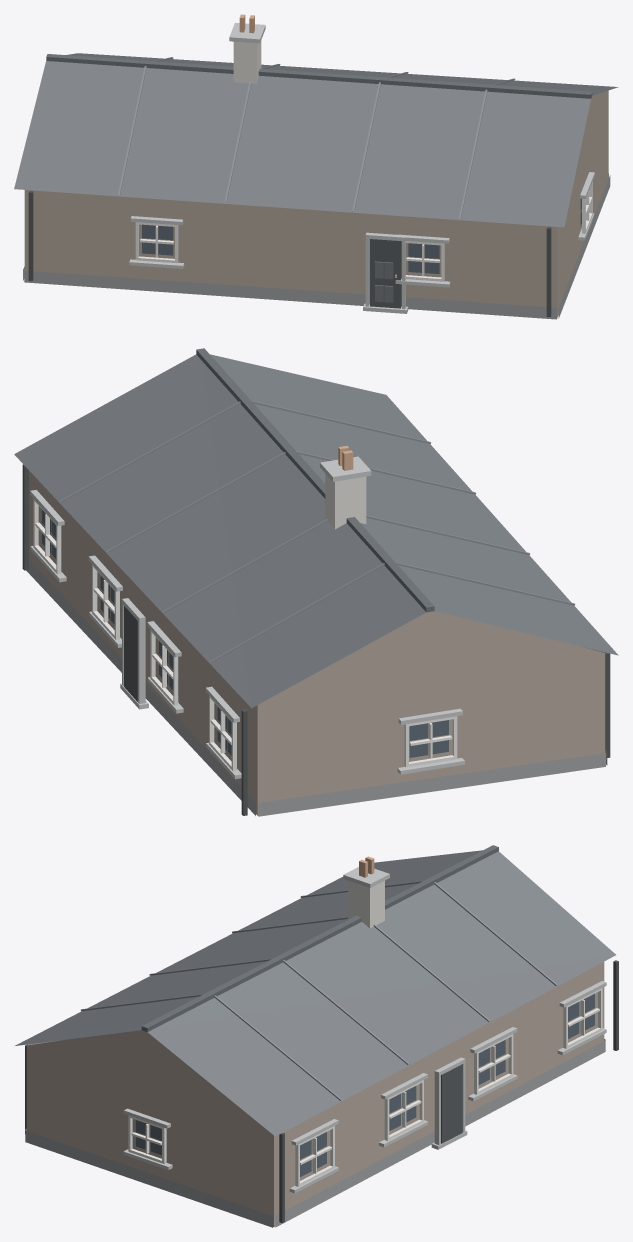
The picture shows the model from 3 angles, top to bottom: view 1: azimuth 30°, elevation 25°; view 2: azimuth 150°, elevation 25°; view 3: azimuth 270°, elevation 25°; orthographic projection. The views are drawn at different scales.
Parts seen in each view (by area): view 1: slate, harl_brown, plinth, slate_dk, stone_band, frame, slate_lt, door_dark, chim_render, pipe, door_dark_p; view 2: slate, harl_brown, plinth, stone_band, frame, slate_lt, slate_dk, pipe, chim_render, door_dark; view 3: slate, harl_brown, plinth, stone_band, frame, slate_dk, slate_lt, door_dark, chim_render, pipe.
Boxes of the visible parts, left/top/right/bottom form: slate: left=14, top=53, right=618, bottom=227; harl_brown: left=24, top=90, right=608, bottom=318; plinth: left=23, top=173, right=610, bottom=319; slate_dk: left=46, top=54, right=592, bottom=98; stone_band: left=129, top=22, right=594, bottom=313; frame: left=135, top=181, right=592, bottom=281; slate_lt: left=118, top=57, right=515, bottom=219; door_dark: left=370, top=239, right=401, bottom=308; chim_render: left=233, top=40, right=261, bottom=83; pipe: left=28, top=191, right=551, bottom=316; door_dark_p: left=375, top=261, right=393, bottom=302; slate: left=14, top=354, right=618, bottom=708; harl_brown: left=29, top=471, right=605, bottom=815; plinth: left=26, top=560, right=607, bottom=816; stone_band: left=30, top=456, right=464, bottom=779; frame: left=33, top=498, right=457, bottom=771; slate_lt: left=59, top=400, right=575, bottom=663; slate_dk: left=196, top=348, right=434, bottom=612; pipe: left=22, top=464, right=610, bottom=815; chim_render: left=325, top=474, right=366, bottom=529; door_dark: left=124, top=606, right=137, bottom=701; slate: left=15, top=850, right=615, bottom=1136; harl_brown: left=26, top=962, right=604, bottom=1226; plinth: left=25, top=1039, right=605, bottom=1227; stone_band: left=123, top=867, right=606, bottom=1193; frame: left=128, top=988, right=602, bottom=1186; slate_dk: left=141, top=845, right=498, bottom=1031; slate_lt: left=81, top=880, right=557, bottom=1100; door_dark: left=441, top=1064, right=462, bottom=1143; chim_render: left=348, top=880, right=384, bottom=928; pipe: left=25, top=960, right=618, bottom=1223.
Size of the model in its own units: 17.41 by 6.36 by 16.28.
